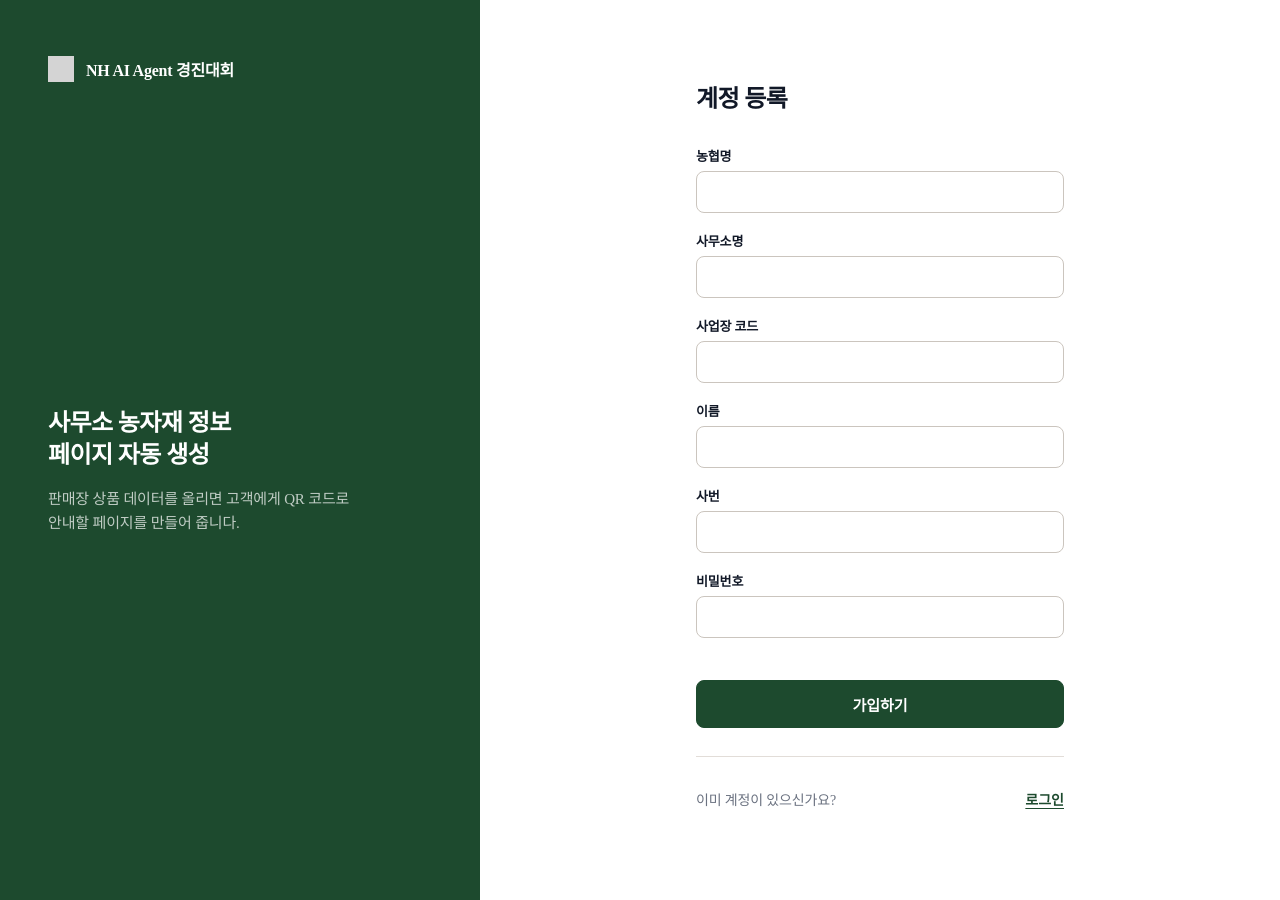
Scenario: RegisterPage › shows a duplicate message when the employeeId is already registered
The width and height of the screenshot is (1280, 900).
Type "NH" into the field with id "nhName" at (880, 192), box [696,171,1064,213]
Type "Main Office" into the field with id "officeName" at (880, 277), box [696,256,1064,298]
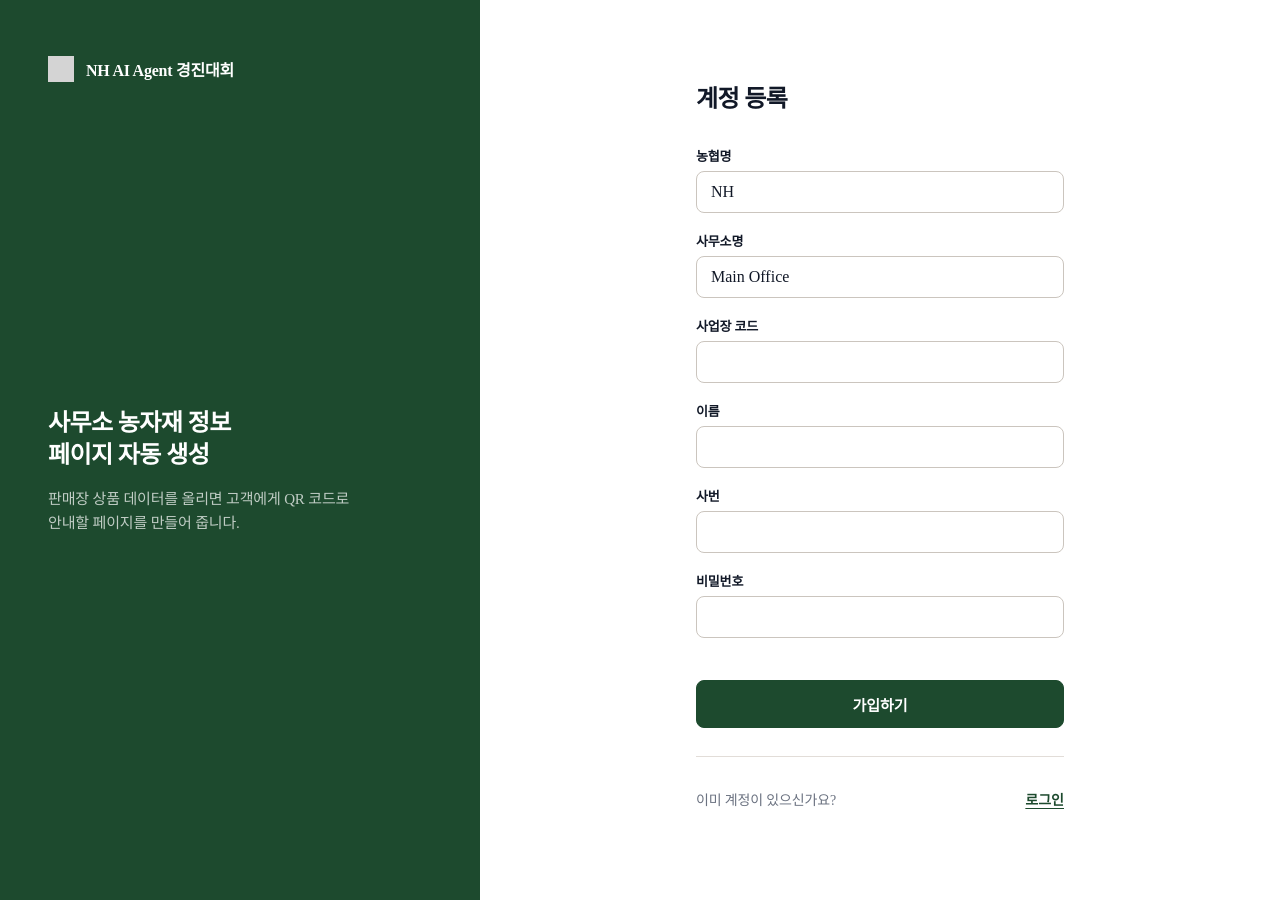
Type "A001" into the field with id "businessCode" at (880, 362), box [696,341,1064,383]
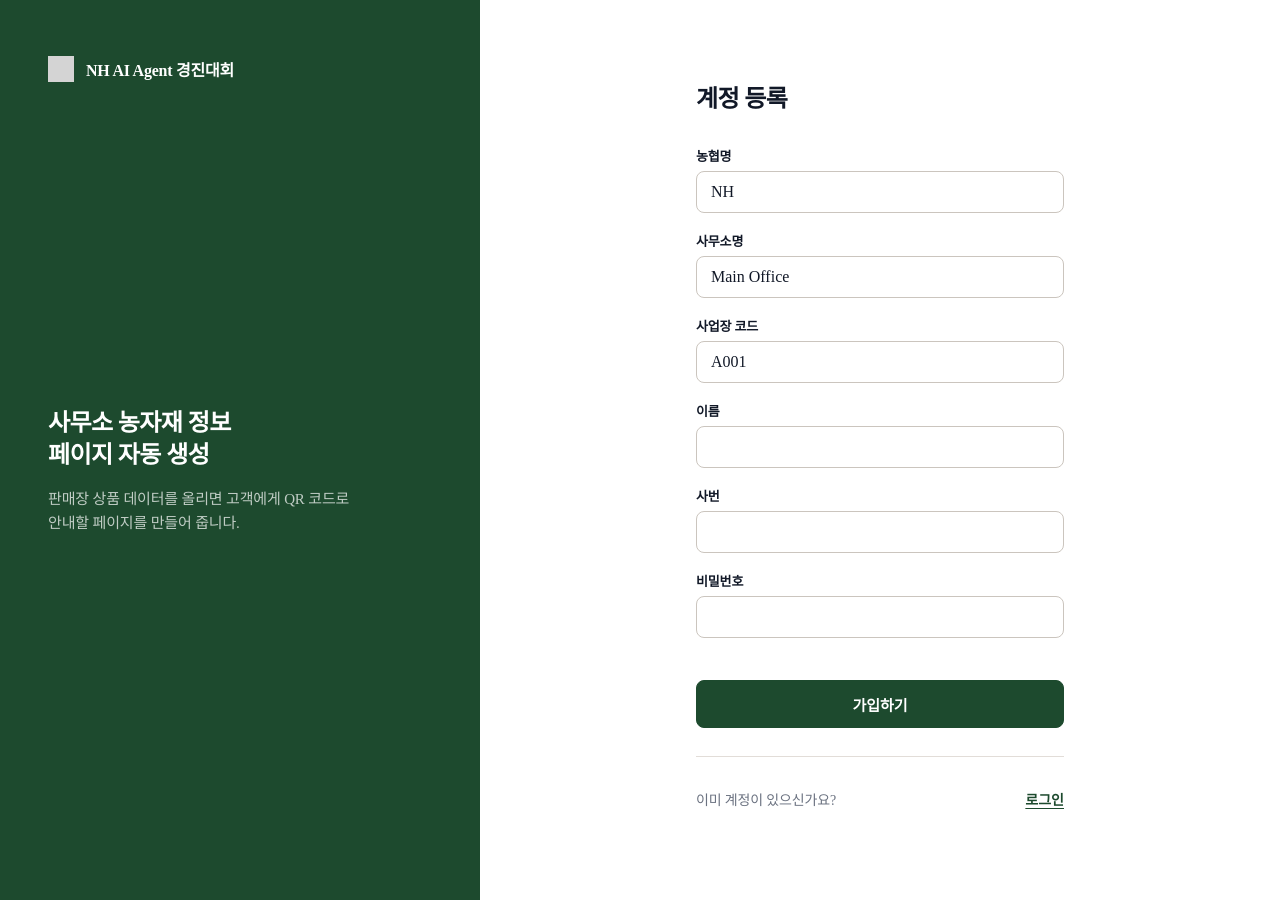
Type "User One" into the field with id "name" at (880, 447), box [696,426,1064,468]
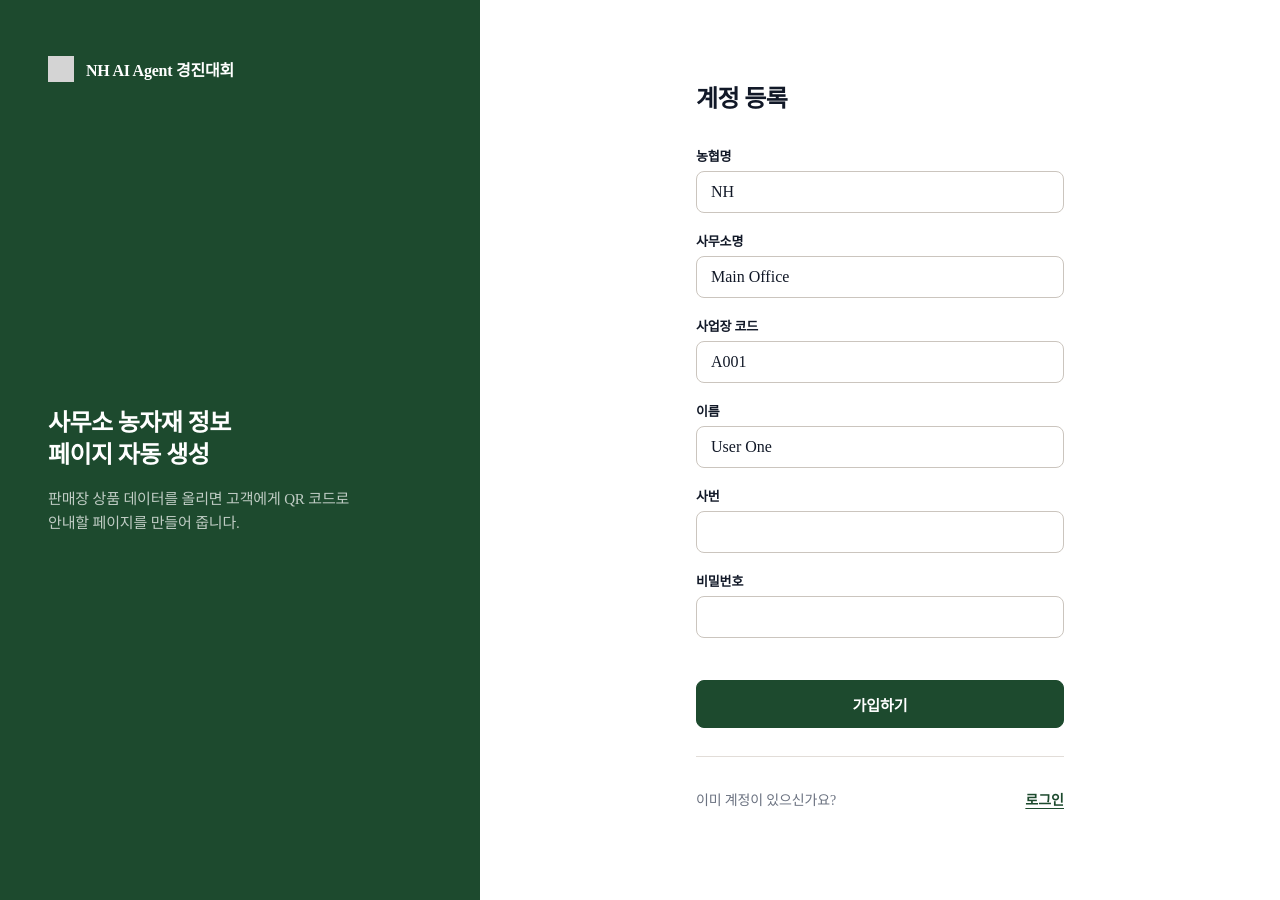
Type "1001" into the field with id "employeeId" at (880, 532), box [696,511,1064,553]
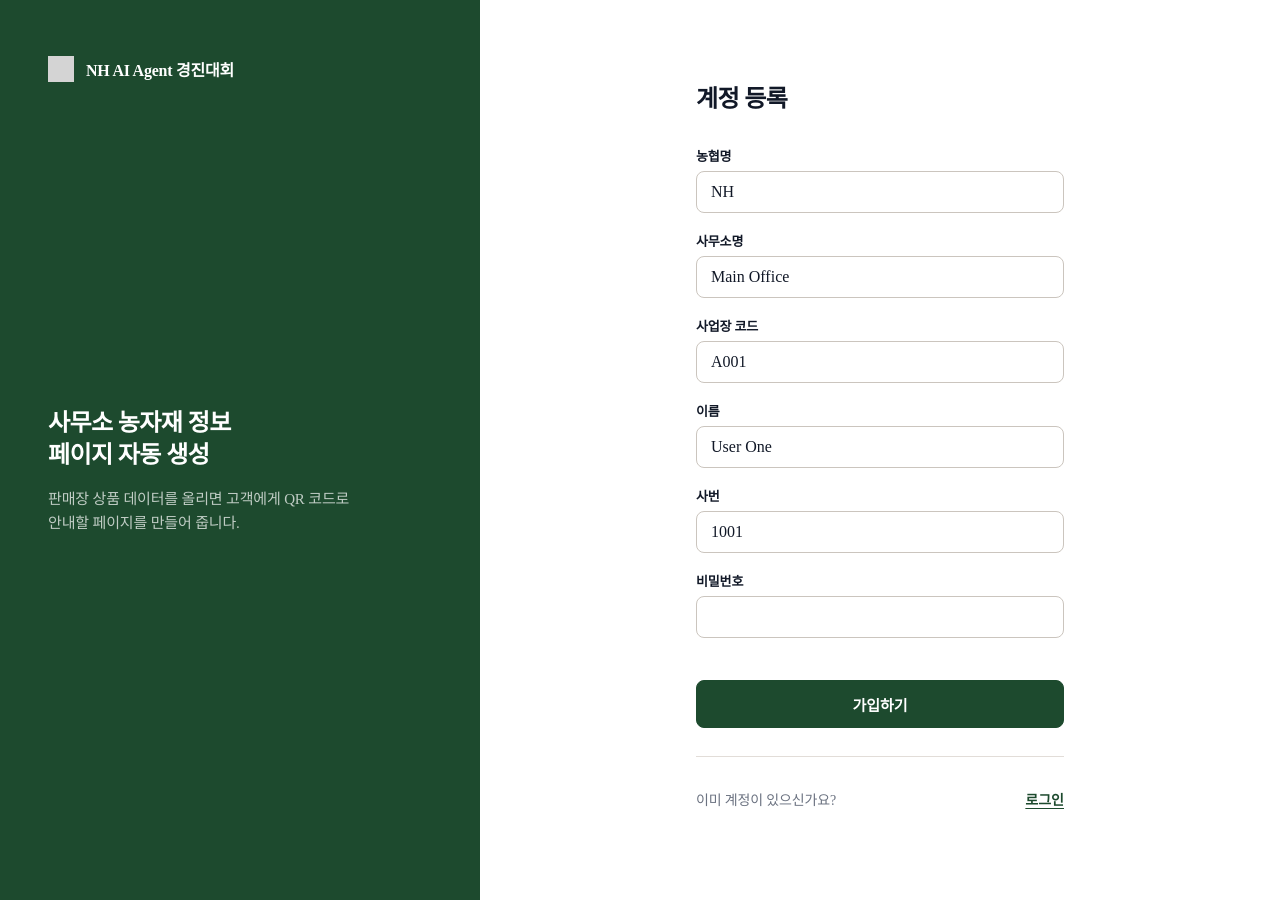
Type "secret" into the password field labelled "비밀번호" at (880, 617), box [696,596,1064,638]
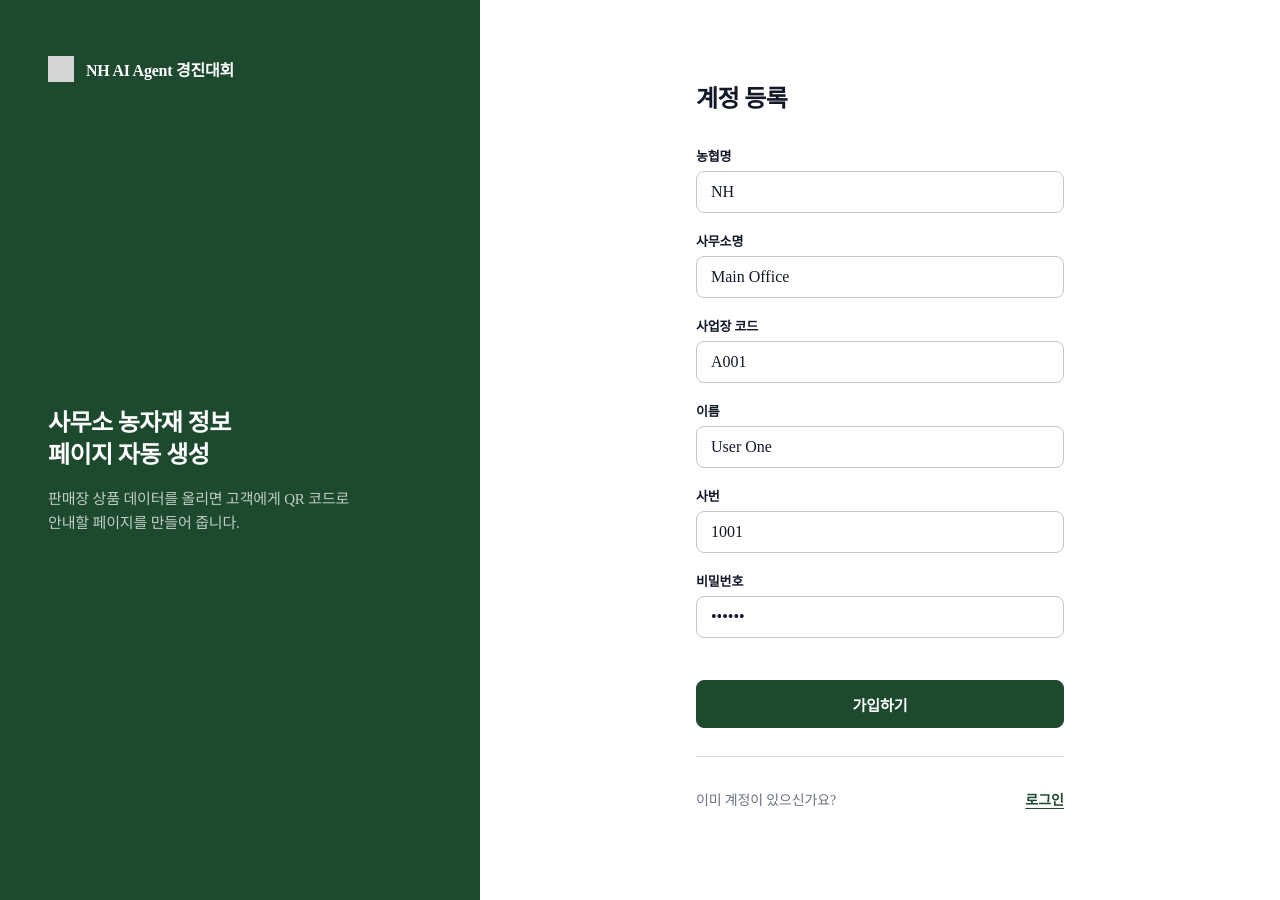
Submit the form, box [696,146,1064,728]
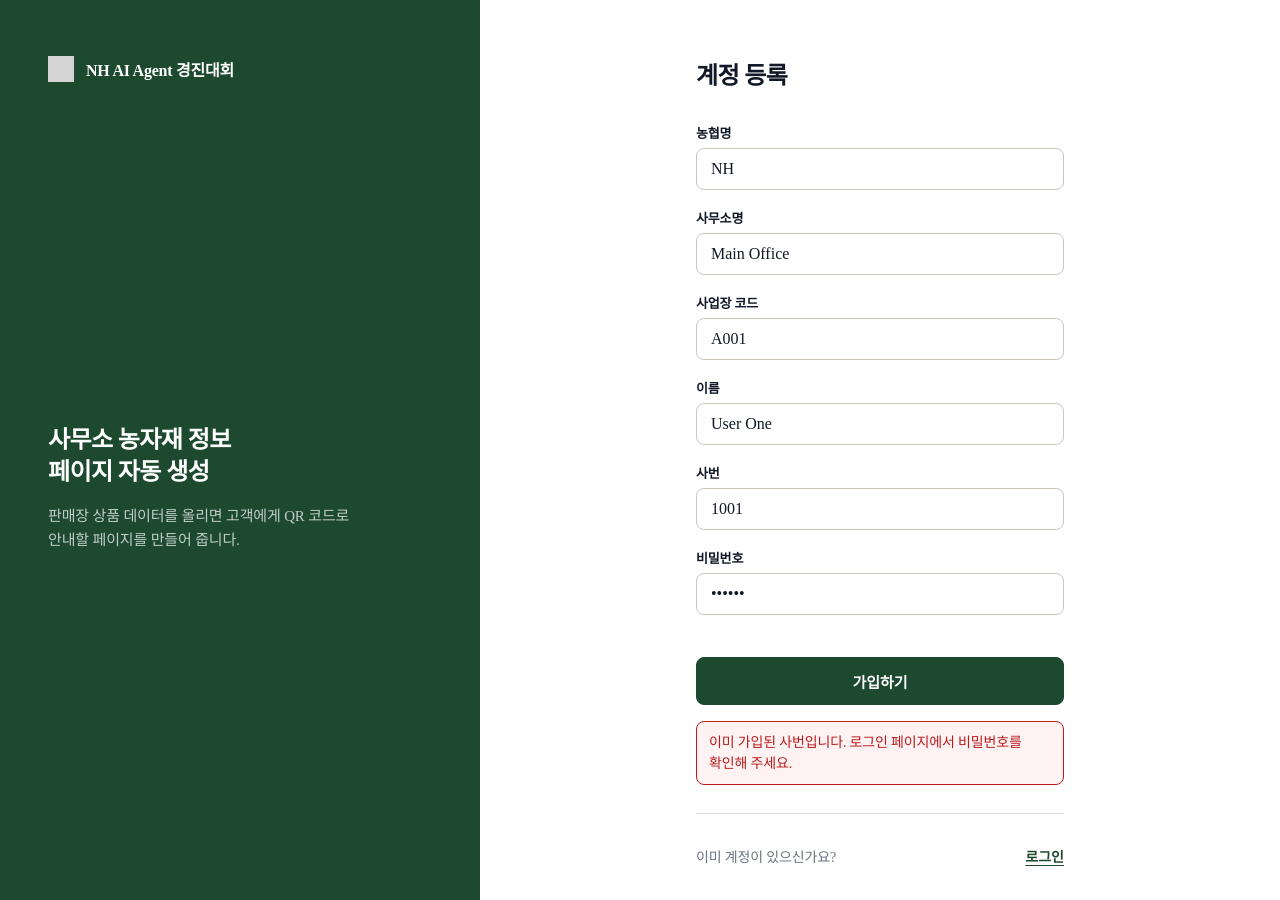
Now the text "이미 가입된 사번입니다. 로그인 페이지에서 비밀번호를 확인해 주세요." is shown, box [696,721,1064,785]
